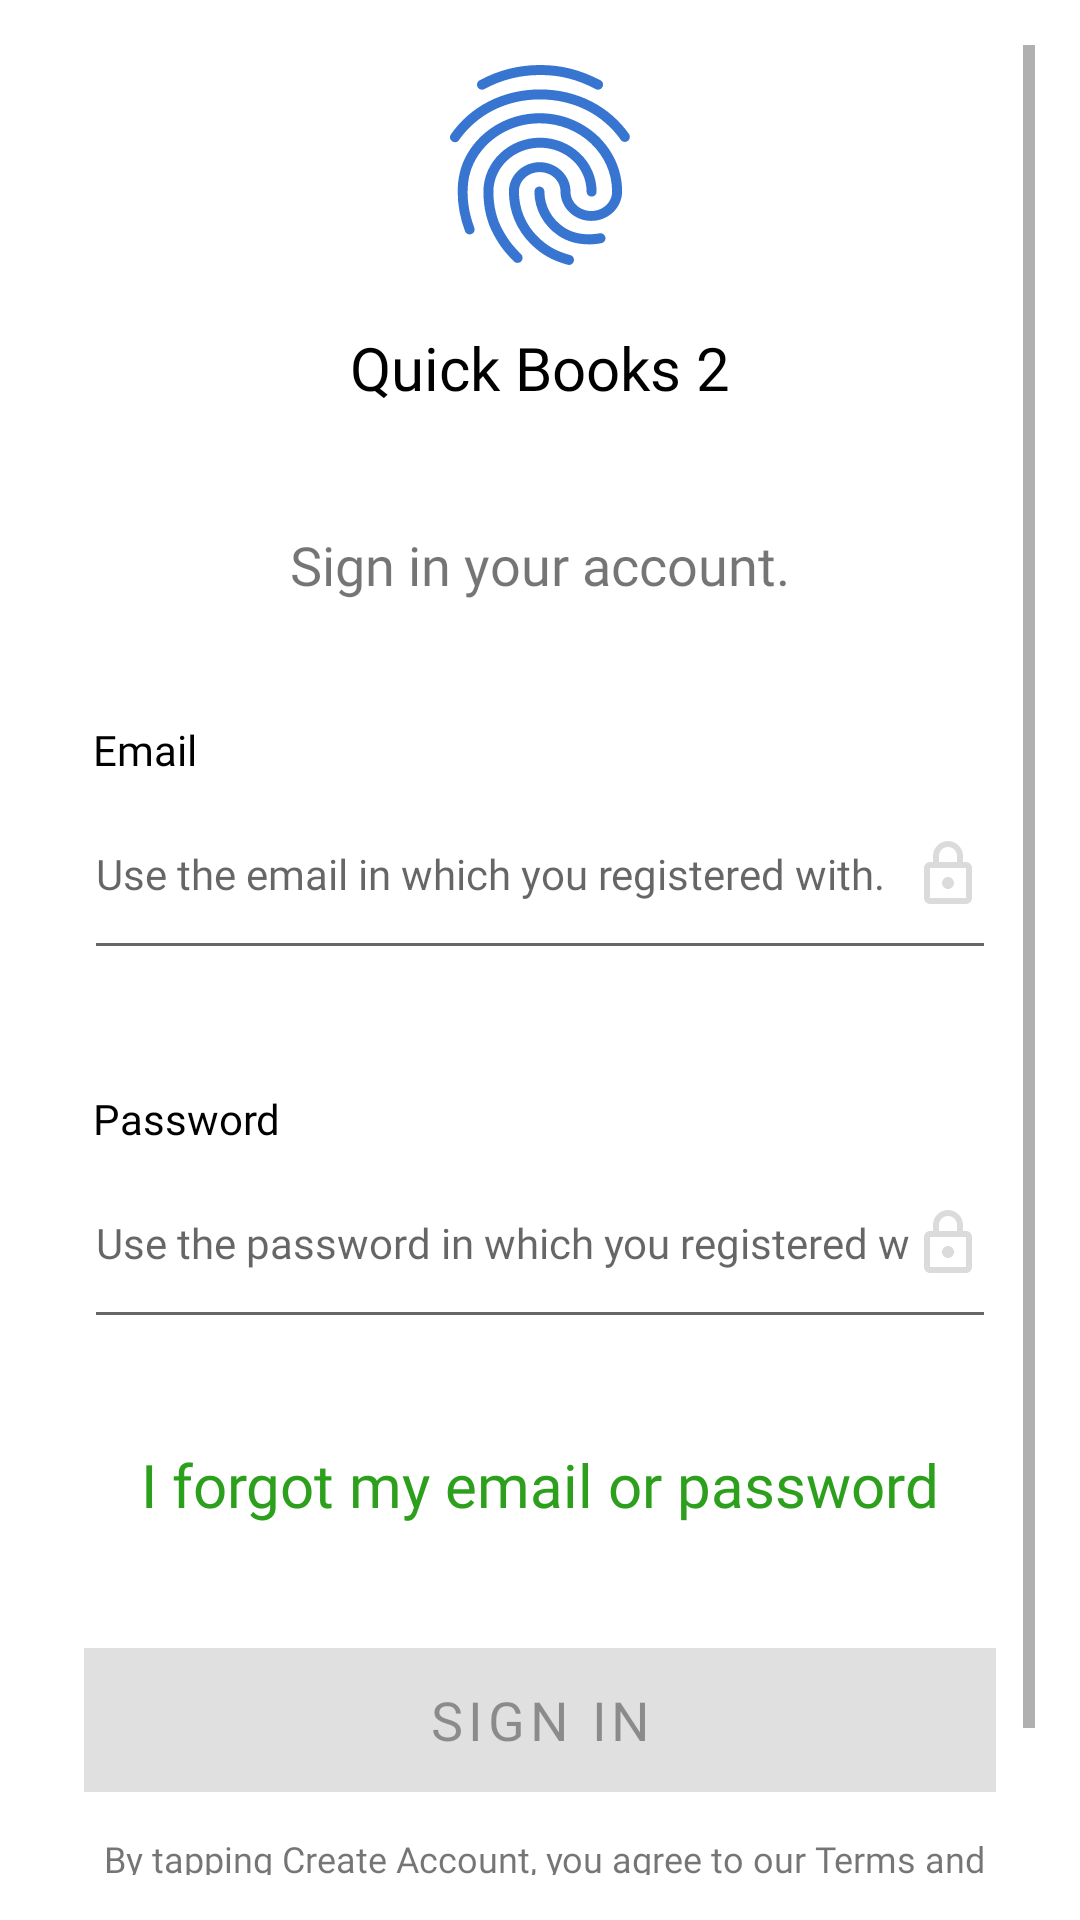

Locate icon controls on the screen. Image size 1080px x 1920px, boxes as (x1, y1, x2, y2).
fingerprint: (450, 65, 630, 265)
